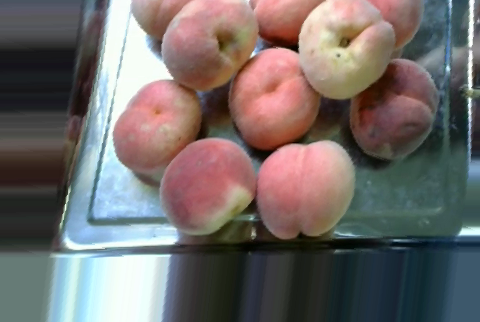Peach: (253, 139, 355, 237), (228, 45, 322, 150), (346, 56, 438, 163), (297, 0, 395, 100), (159, 136, 257, 234), (110, 78, 203, 176), (159, 0, 259, 90)
